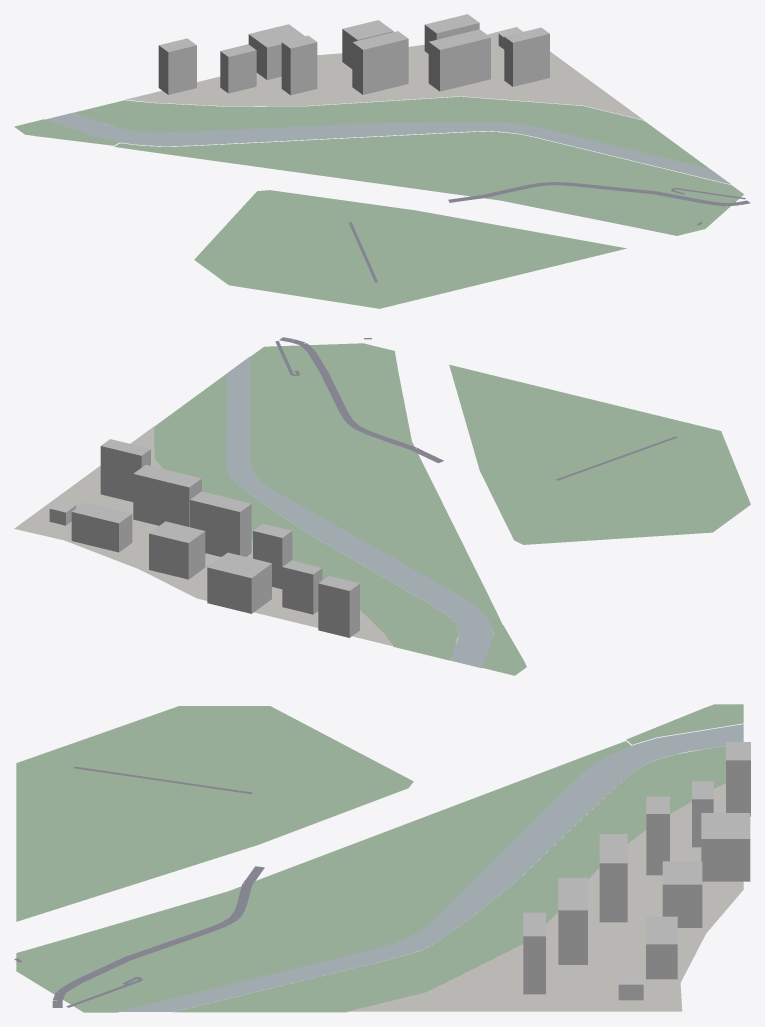
The model's file is 135_106_mid.glb.
3 views of the same model, one above another, from view 1: azimuth 30°, elevation 25°; view 2: azimuth 150°, elevation 25°; view 3: azimuth 270°, elevation 25° (orthographic). The views are drawn at different scales.
Bounding box in the file's own units: 500 × 47.77 × 507.
